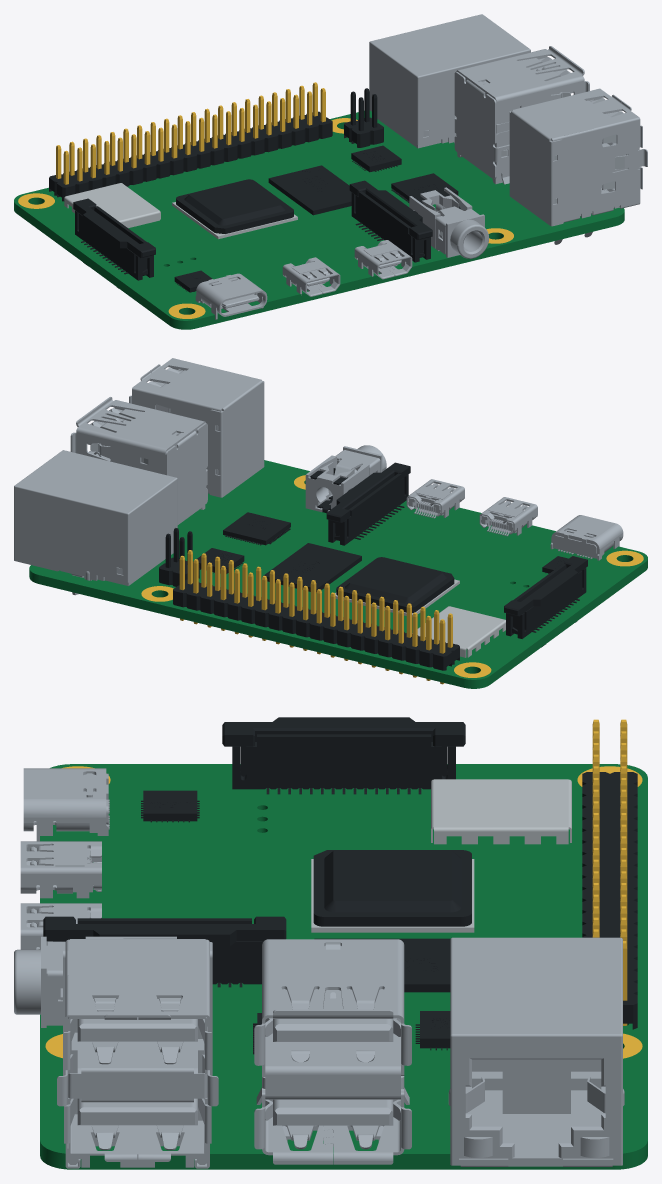
Rendered from raspberry_pi_4_model.glb.
3 views of the same model, one above another, from view 1: azimuth 30°, elevation 25°; view 2: azimuth 150°, elevation 25°; view 3: azimuth 270°, elevation 25° (orthographic). The views are drawn at different scales.
Parts seen in each view (by area): view 1: PCB — 85 x 56 mm CAD outline, I/O connector — CAD geometry.007, I/O connector — CAD geometry.002, I/O connector — CAD geometry.006, IC, header, or ribbon connector — CAD geometry.002, IC, header, or ribbon connector — CAD geometry, I/O connector — CAD geometry.001, IC, header, or ribbon connector — CAD geometry.040, IC, header, or ribbon connector — CAD geometry.018, Shielded component — CAD geometry.001, I/O connector — CAD geometry.005, IC, header, or ribbon connector — CAD geometry.038 (+10 smaller); view 2: PCB — 85 x 56 mm CAD outline, I/O connector — CAD geometry.002, I/O connector — CAD geometry.007, I/O connector — CAD geometry.006, IC, header, or ribbon connector — CAD geometry.002, IC, header, or ribbon connector — CAD geometry, IC, header, or ribbon connector — CAD geometry.040, IC, header, or ribbon connector — CAD geometry.018, I/O connector — CAD geometry.001, I/O connector — CAD geometry.005, IC, header, or ribbon connector — CAD geometry.038, Shielded component — CAD geometry.001 (+8 smaller); view 3: PCB — 85 x 56 mm CAD outline, I/O connector — CAD geometry.002, I/O connector — CAD geometry.007, I/O connector — CAD geometry.006, IC, header, or ribbon connector — CAD geometry, IC, header, or ribbon connector — CAD geometry.038, Shielded component — CAD geometry.001, IC, header, or ribbon connector — CAD geometry.002, I/O connector — CAD geometry.005, IC, header, or ribbon connector — CAD geometry.039, I/O connector — CAD geometry.004, IC, header, or ribbon connector — CAD geometry.019 (+8 smaller).
Part boxes in pixels (box(x1,y1,x2,y2)): PCB — 85 x 56 mm CAD outline: box(14, 110, 624, 329); I/O connector — CAD geometry.007: box(509, 88, 647, 244); I/O connector — CAD geometry.002: box(369, 14, 530, 148); I/O connector — CAD geometry.006: box(454, 46, 589, 184); IC, header, or ribbon connector — CAD geometry.002: box(49, 111, 332, 201); IC, header, or ribbon connector — CAD geometry: box(176, 179, 293, 233); I/O connector — CAD geometry.001: box(409, 187, 489, 258); IC, header, or ribbon connector — CAD geometry.040: box(268, 165, 351, 215); IC, header, or ribbon connector — CAD geometry.018: box(351, 191, 430, 262); Shielded component — CAD geometry.001: box(64, 183, 160, 228); I/O connector — CAD geometry.005: box(195, 273, 267, 319); IC, header, or ribbon connector — CAD geometry.038: box(75, 206, 153, 280); PCB — 85 x 56 mm CAD outline: box(29, 460, 647, 688); I/O connector — CAD geometry.002: box(14, 450, 177, 595); I/O connector — CAD geometry.007: box(129, 358, 264, 497); I/O connector — CAD geometry.006: box(70, 397, 207, 524); IC, header, or ribbon connector — CAD geometry.002: box(173, 579, 459, 670); IC, header, or ribbon connector — CAD geometry: box(336, 557, 454, 612); IC, header, or ribbon connector — CAD geometry.040: box(263, 543, 361, 592); IC, header, or ribbon connector — CAD geometry.018: box(328, 473, 408, 545); I/O connector — CAD geometry.001: box(305, 445, 386, 512); I/O connector — CAD geometry.005: box(550, 515, 623, 560); IC, header, or ribbon connector — CAD geometry.038: box(506, 563, 586, 638); Shielded component — CAD geometry.001: box(412, 606, 505, 657); PCB — 85 x 56 mm CAD outline: box(40, 764, 647, 1169); I/O connector — CAD geometry.002: box(448, 937, 624, 1166); I/O connector — CAD geometry.007: box(57, 939, 218, 1168); I/O connector — CAD geometry.006: box(254, 939, 411, 1164); IC, header, or ribbon connector — CAD geometry: box(313, 850, 471, 926); IC, header, or ribbon connector — CAD geometry.038: box(232, 734, 455, 789); Shielded component — CAD geometry.001: box(431, 779, 571, 844); IC, header, or ribbon connector — CAD geometry.002: box(582, 772, 637, 1029); I/O connector — CAD geometry.005: box(23, 768, 109, 841); IC, header, or ribbon connector — CAD geometry.039: box(222, 717, 465, 776); I/O connector — CAD geometry.004: box(20, 841, 101, 898); IC, header, or ribbon connector — CAD geometry.019: box(43, 916, 286, 946).
Bounding box in the file's own units: 88.99 × 19.9 × 58.4.
